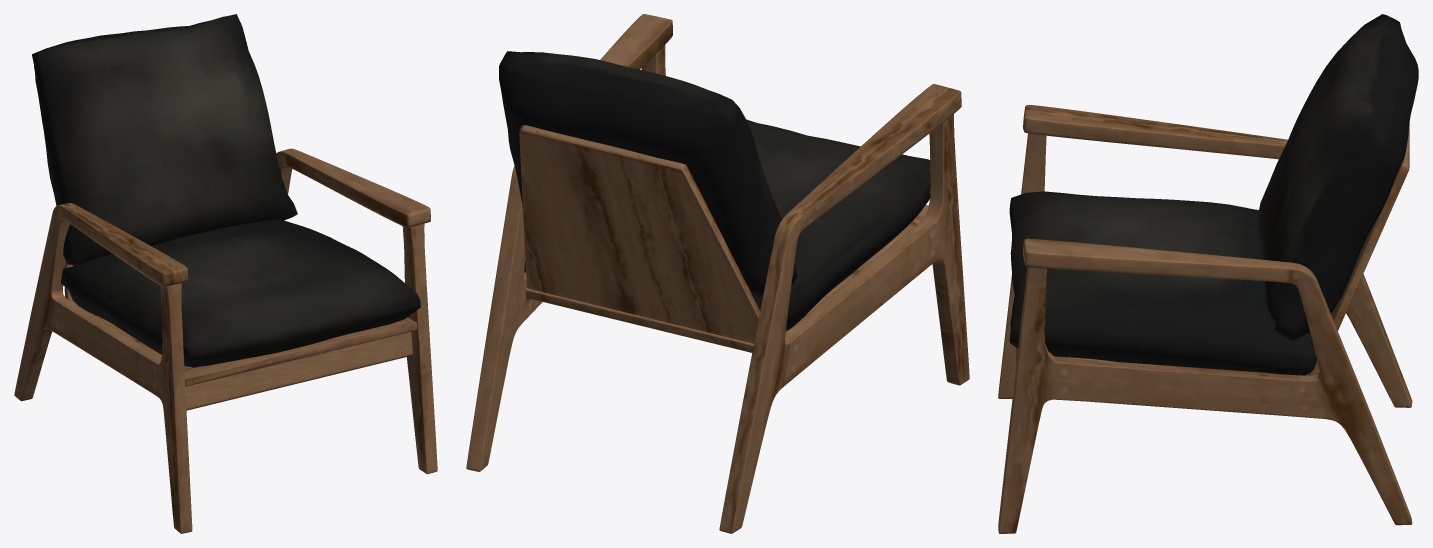
Rendered from modern_arm_chair_01.glb.
3 views of the same model, side by side, from view 1: azimuth 30°, elevation 25°; view 2: azimuth 150°, elevation 25°; view 3: azimuth 270°, elevation 25° (orthographic). The views are drawn at different scales.
Visible parts, largest first — view 1: modern_arm_chair_01; view 2: modern_arm_chair_01; view 3: modern_arm_chair_01.
Part boxes in pixels (x1=…): modern_arm_chair_01: x1=14, y1=14, x2=437, y2=533; modern_arm_chair_01: x1=466, y1=14, x2=969, y2=533; modern_arm_chair_01: x1=998, y1=14, x2=1418, y2=533.
Bounding box in the file's own units: 0.8203 × 1.02 × 0.9865.
2 materials, 2 textured.
